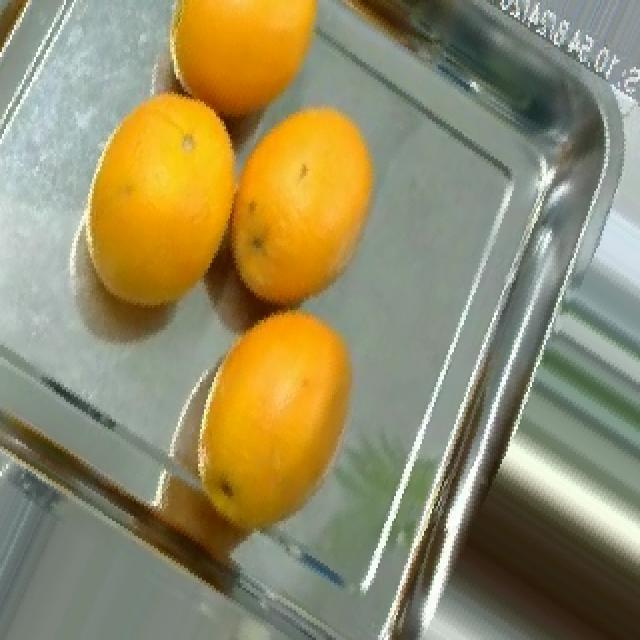Fruit: (142, 0, 340, 186)
